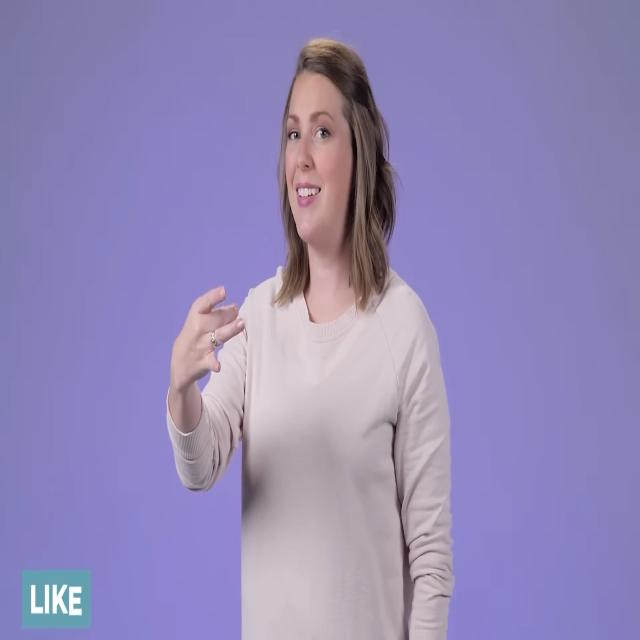like: (160, 269, 256, 435)
